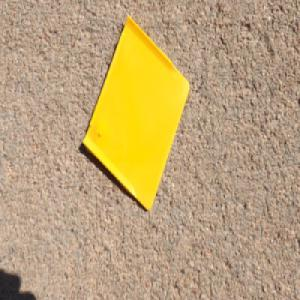PlasticPart: (81, 12, 191, 213)
